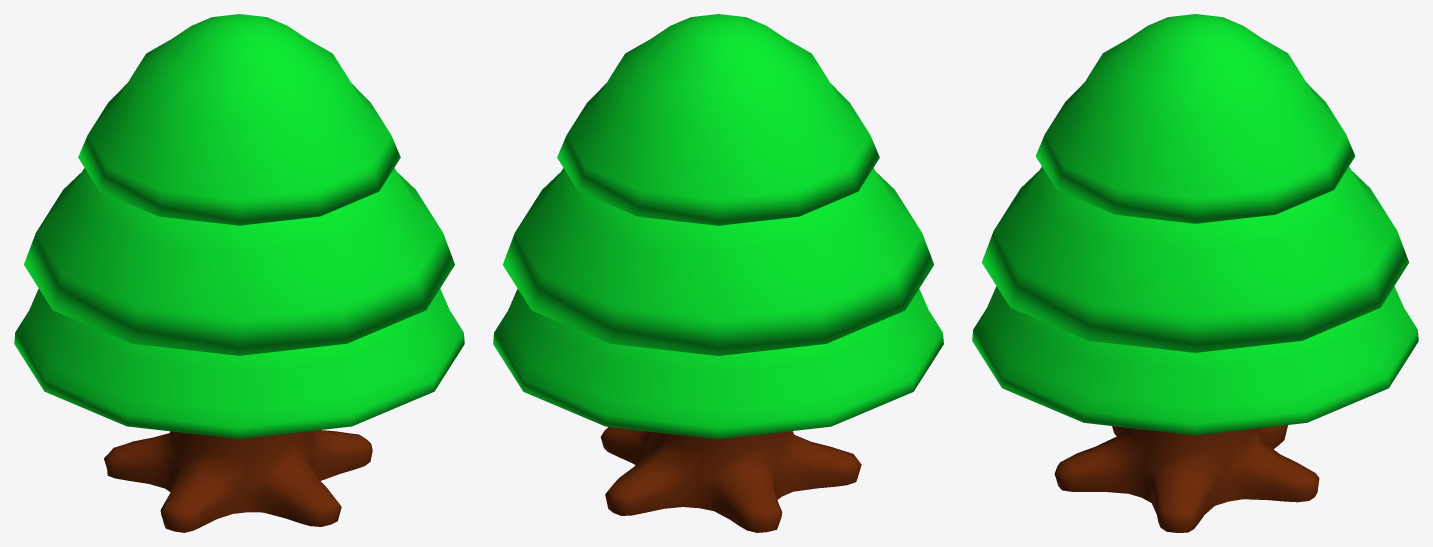
File: CartoonTree.fbx
The picture shows the model from 3 angles, left to right: view 1: azimuth 30°, elevation 25°; view 2: azimuth 150°, elevation 25°; view 3: azimuth 270°, elevation 25°; orthographic projection.
Parts seen in each view (by area): view 1: CartoonTree; view 2: CartoonTree; view 3: CartoonTree.
Part boxes in pixels (bbox=[...]): CartoonTree: bbox=[14, 14, 464, 532]; CartoonTree: bbox=[493, 14, 943, 532]; CartoonTree: bbox=[972, 14, 1418, 532].
Size of the model in its own units: 369 by 413 by 369.
